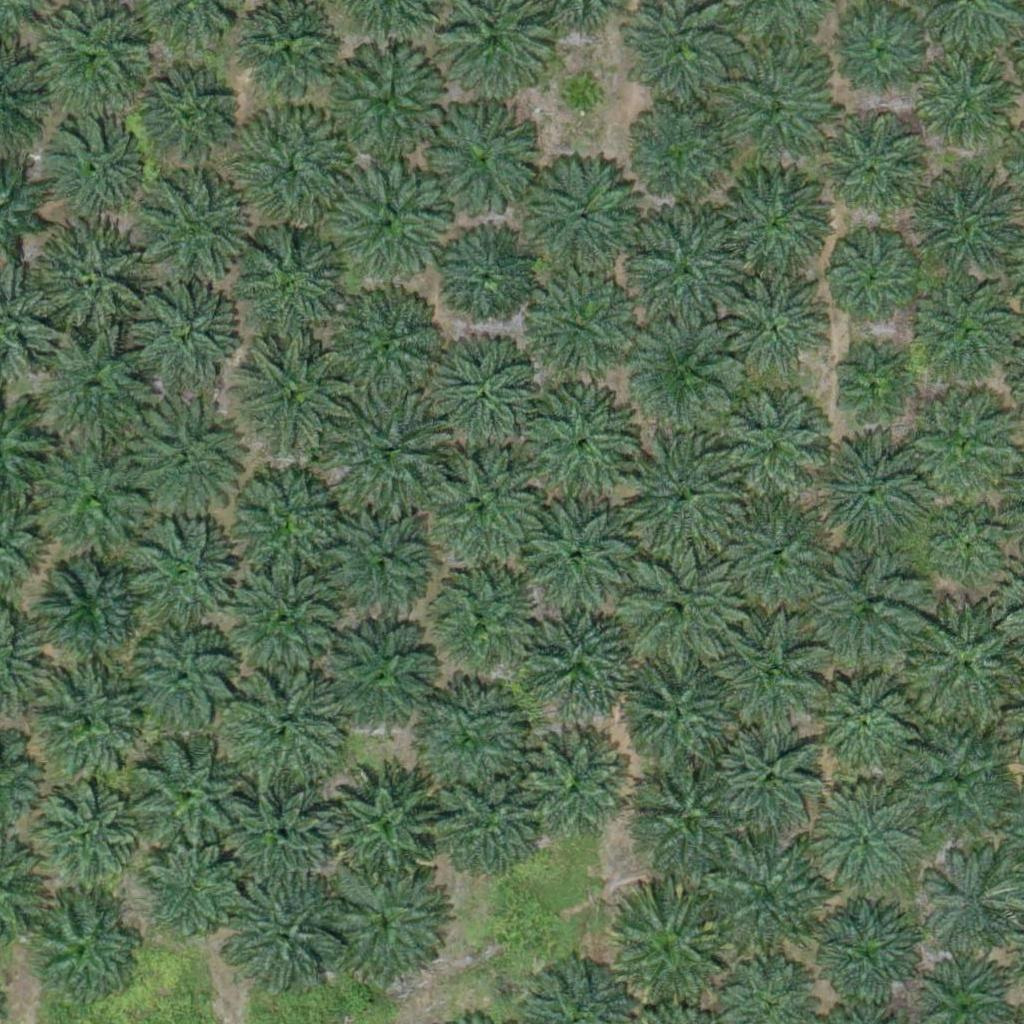Kelapa_Sawit: (625, 211, 750, 337), (324, 285, 449, 411), (231, 104, 356, 230), (230, 226, 355, 352), (230, 338, 355, 464), (25, 217, 150, 343), (33, 328, 158, 454), (23, 435, 148, 561), (117, 517, 242, 643), (120, 394, 245, 520), (122, 737, 247, 863), (227, 557, 352, 683), (226, 665, 351, 791), (222, 873, 347, 999), (408, 447, 533, 573), (321, 758, 446, 884), (325, 862, 450, 988), (618, 432, 743, 558), (614, 547, 739, 673), (322, 157, 447, 282), (324, 40, 449, 165), (227, 463, 352, 588), (413, 558, 538, 683), (402, 676, 527, 801), (605, 891, 730, 1016), (23, 774, 136, 888), (35, 667, 148, 781), (136, 836, 249, 950), (719, 498, 832, 612), (716, 391, 829, 505), (627, 319, 740, 432), (521, 273, 634, 386), (524, 155, 637, 268), (27, 893, 140, 1006), (38, 555, 151, 668), (322, 621, 435, 734), (323, 507, 436, 620), (336, 392, 449, 505), (428, 766, 541, 879), (715, 723, 828, 836), (712, 619, 825, 732), (811, 903, 924, 1016), (720, 48, 832, 162), (811, 439, 923, 553), (813, 553, 925, 667), (901, 732, 1013, 846), (717, 163, 829, 276), (428, 96, 540, 209), (438, 342, 550, 455), (124, 278, 236, 391), (140, 172, 252, 285), (37, 7, 149, 120), (128, 625, 240, 738), (220, 781, 332, 894), (519, 729, 631, 842), (526, 604, 638, 717), (518, 501, 630, 614), (523, 391, 635, 504), (623, 661, 735, 774), (630, 759, 742, 872), (712, 846, 824, 959), (726, 277, 826, 378), (631, 101, 731, 202), (438, 228, 538, 329), (140, 66, 240, 167), (45, 116, 145, 217), (819, 788, 919, 889), (913, 401, 1013, 502), (916, 58, 1016, 158), (918, 280, 1018, 380), (812, 671, 912, 771), (919, 856, 1019, 956), (829, 236, 917, 324), (831, 131, 919, 219), (839, 11, 926, 99), (832, 351, 907, 427), (934, 510, 1009, 586), (557, 72, 607, 122)
